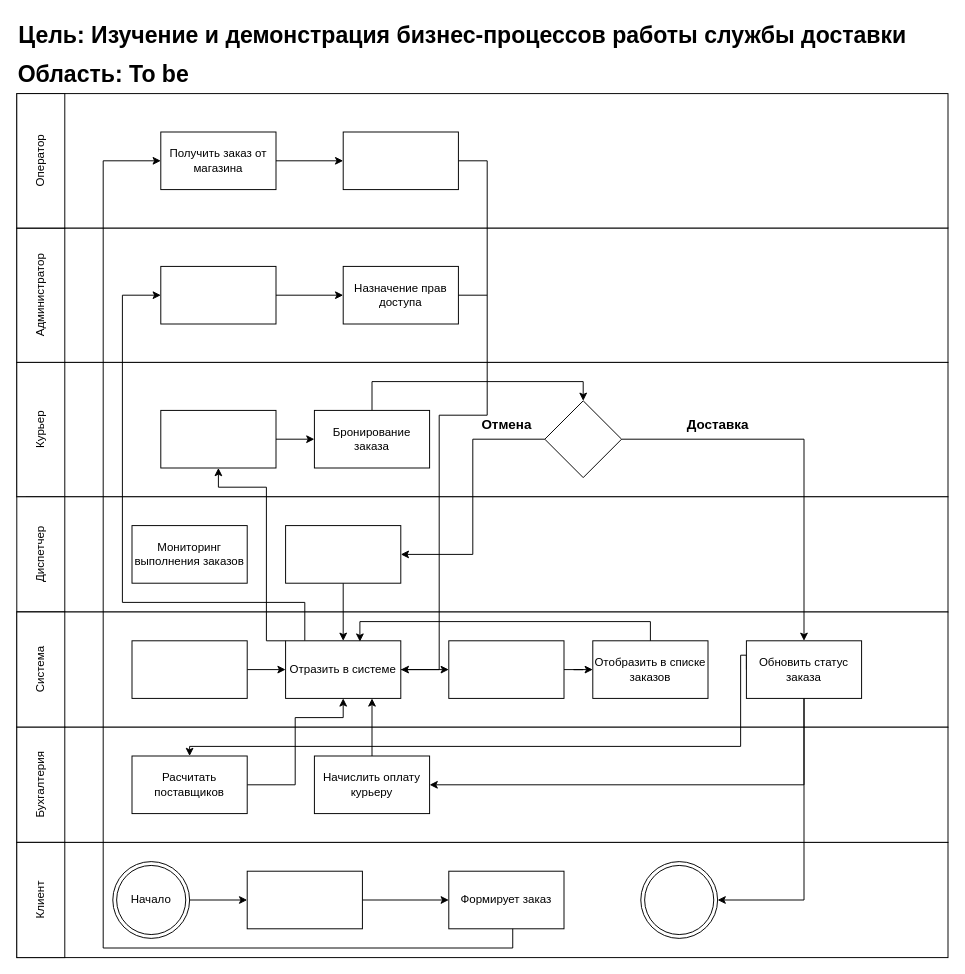
This 965x974 diagram has some shape labels left out. The shapes that lost their labels are listed below. From the top down, each one's box as (x1, y1, x2, y2) in pixels, then its label:
(342, 131, 458, 190): Ввести заказ в систему
(160, 265, 276, 324): Регистрация нового курьера
(160, 409, 276, 468): Просмотр заказа
(544, 400, 622, 478): Получение заказа
(285, 525, 401, 583): Переназначение заказов
(131, 640, 247, 698): Создать учетную запись
(448, 640, 564, 698): Сохранить заказ
(246, 870, 362, 929): Выбирает заказ
(640, 861, 718, 938): Конец
